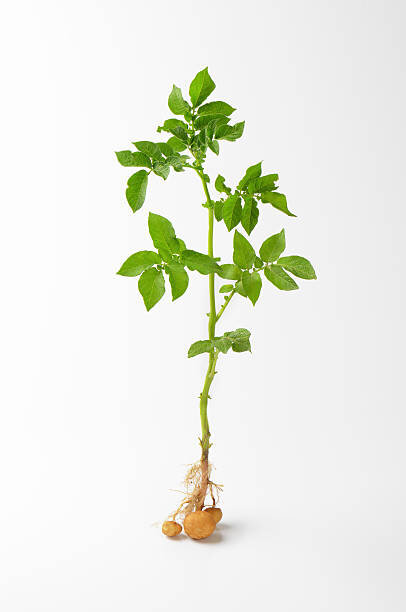potato_plant: (114, 65, 320, 486)
